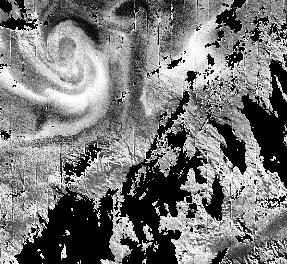CE: (23, 12, 114, 113)
